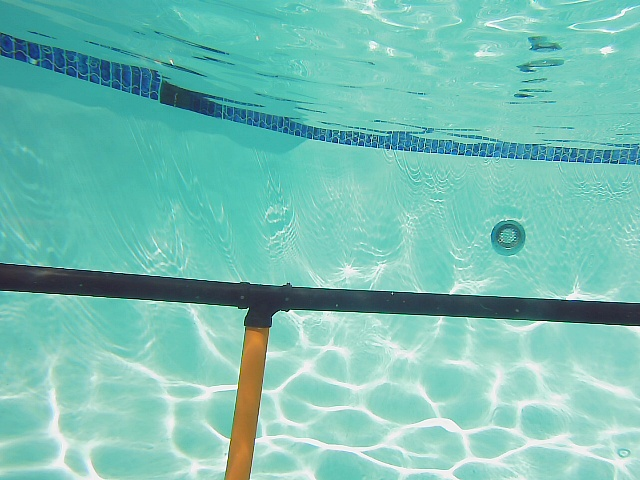Gate: (1, 256, 640, 477)
